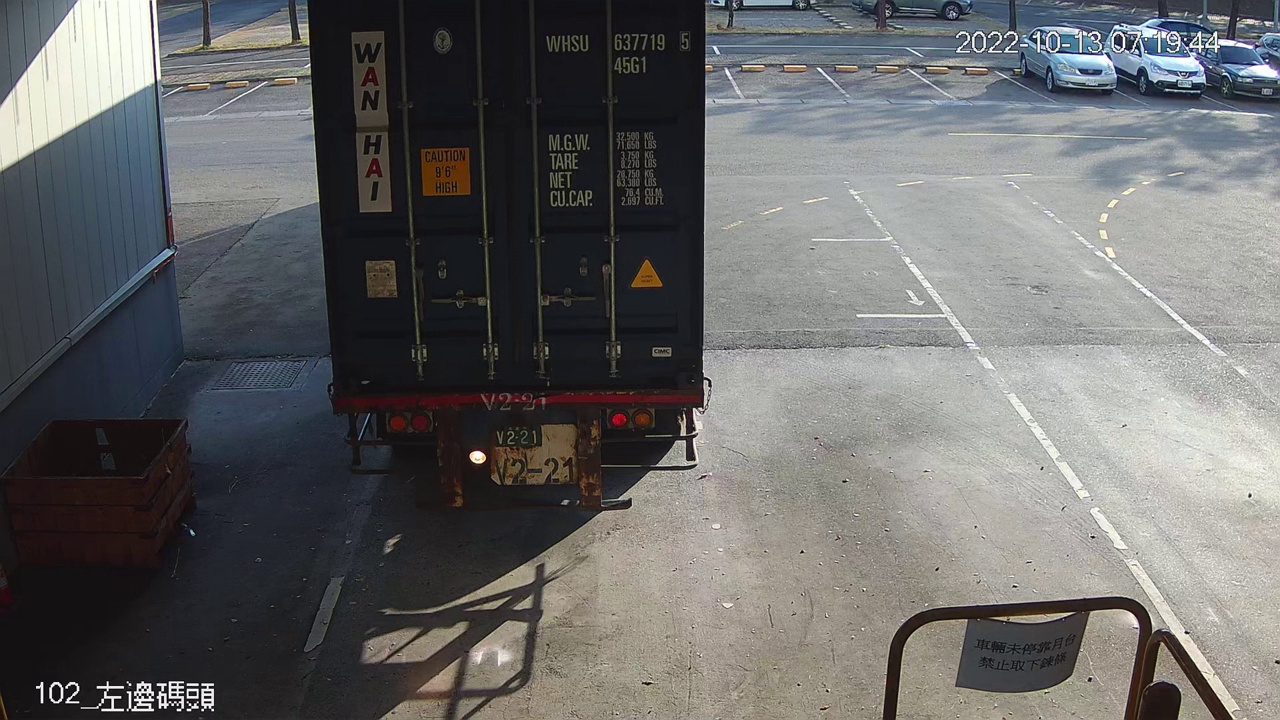container: (538, 23, 698, 82)
